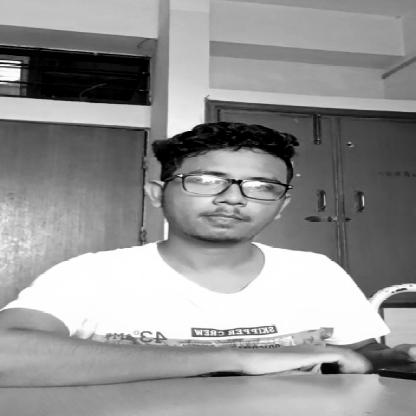Normal: (125, 133, 327, 238)
